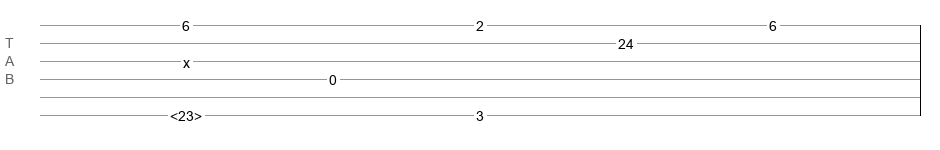0: (329, 72, 337, 82)
2: (476, 18, 484, 28)
24: (618, 36, 634, 46)
3: (476, 108, 484, 118)
6: (182, 18, 190, 28), (769, 18, 777, 28)
harmonic: (170, 108, 202, 118)
x: (183, 55, 190, 63)
